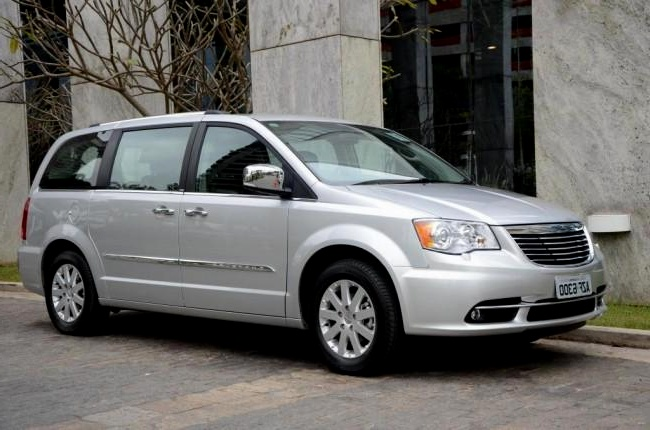car: (0, 106, 622, 370)
